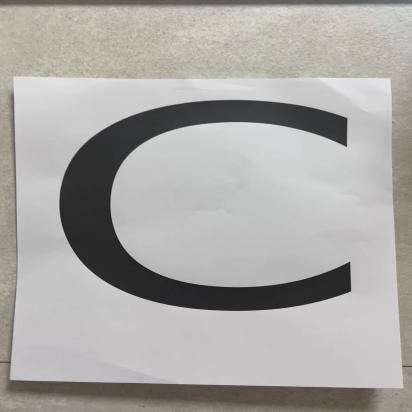seat: (0, 69, 412, 401)
